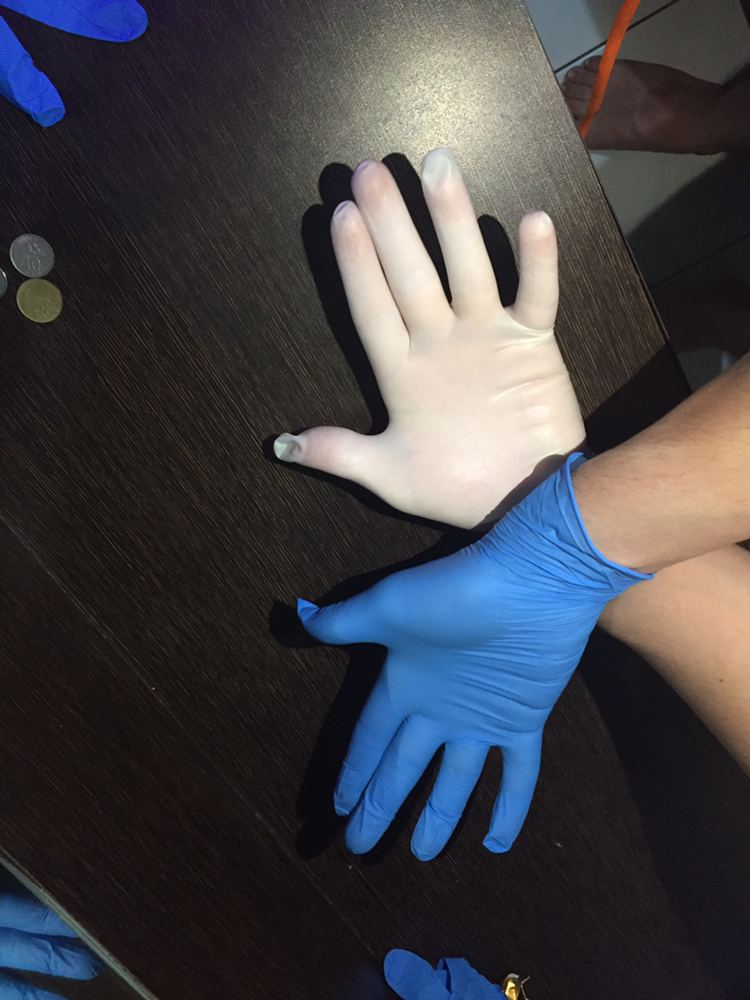glove: (254, 472, 636, 878)
